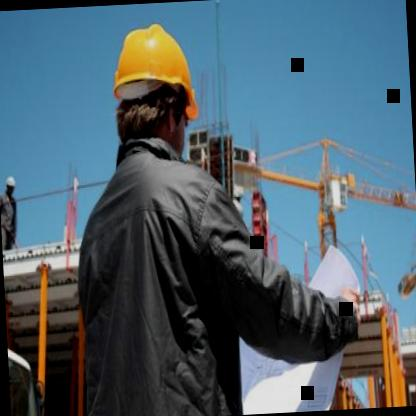helmet: (98, 6, 204, 174), (3, 172, 18, 198)
